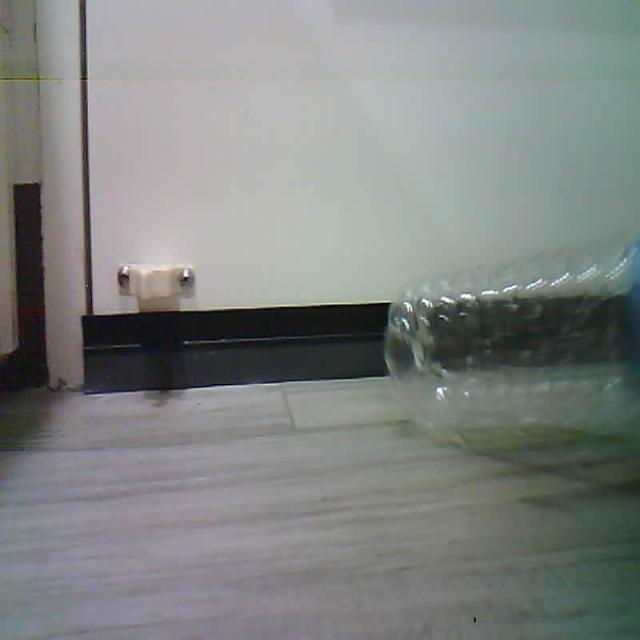bottle: (385, 234, 639, 450)
